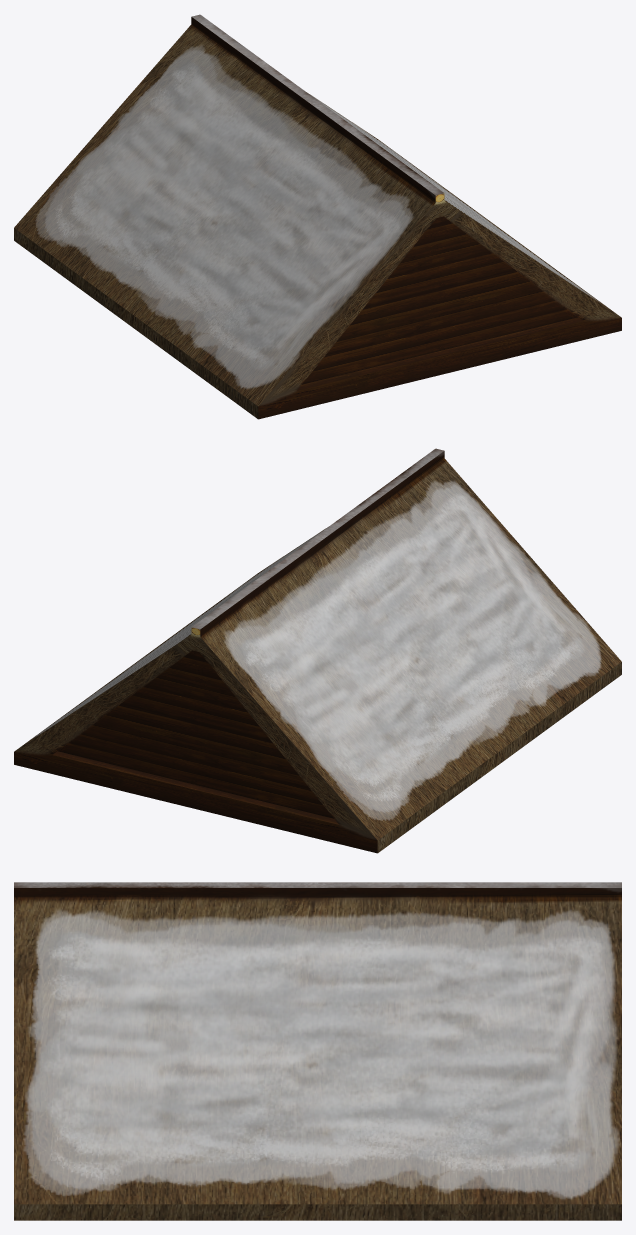
The model's file is Roof 3.fbx.
3 renders of one model, top to bottom at view 1: azimuth 30°, elevation 25°; view 2: azimuth 150°, elevation 25°; view 3: azimuth 270°, elevation 25°, orthographic. The views are drawn at different scales.
Visible parts, largest first — view 1: Floor3; view 2: Floor3; view 3: Floor3.
Boxes of the visible parts, left/top/right/bottom form: Floor3: left=14, top=14, right=621, bottom=419; Floor3: left=14, top=448, right=621, bottom=853; Floor3: left=14, top=882, right=621, bottom=1220.
Bounding box in the file's own units: 11.47 × 5.45 × 13.34.
